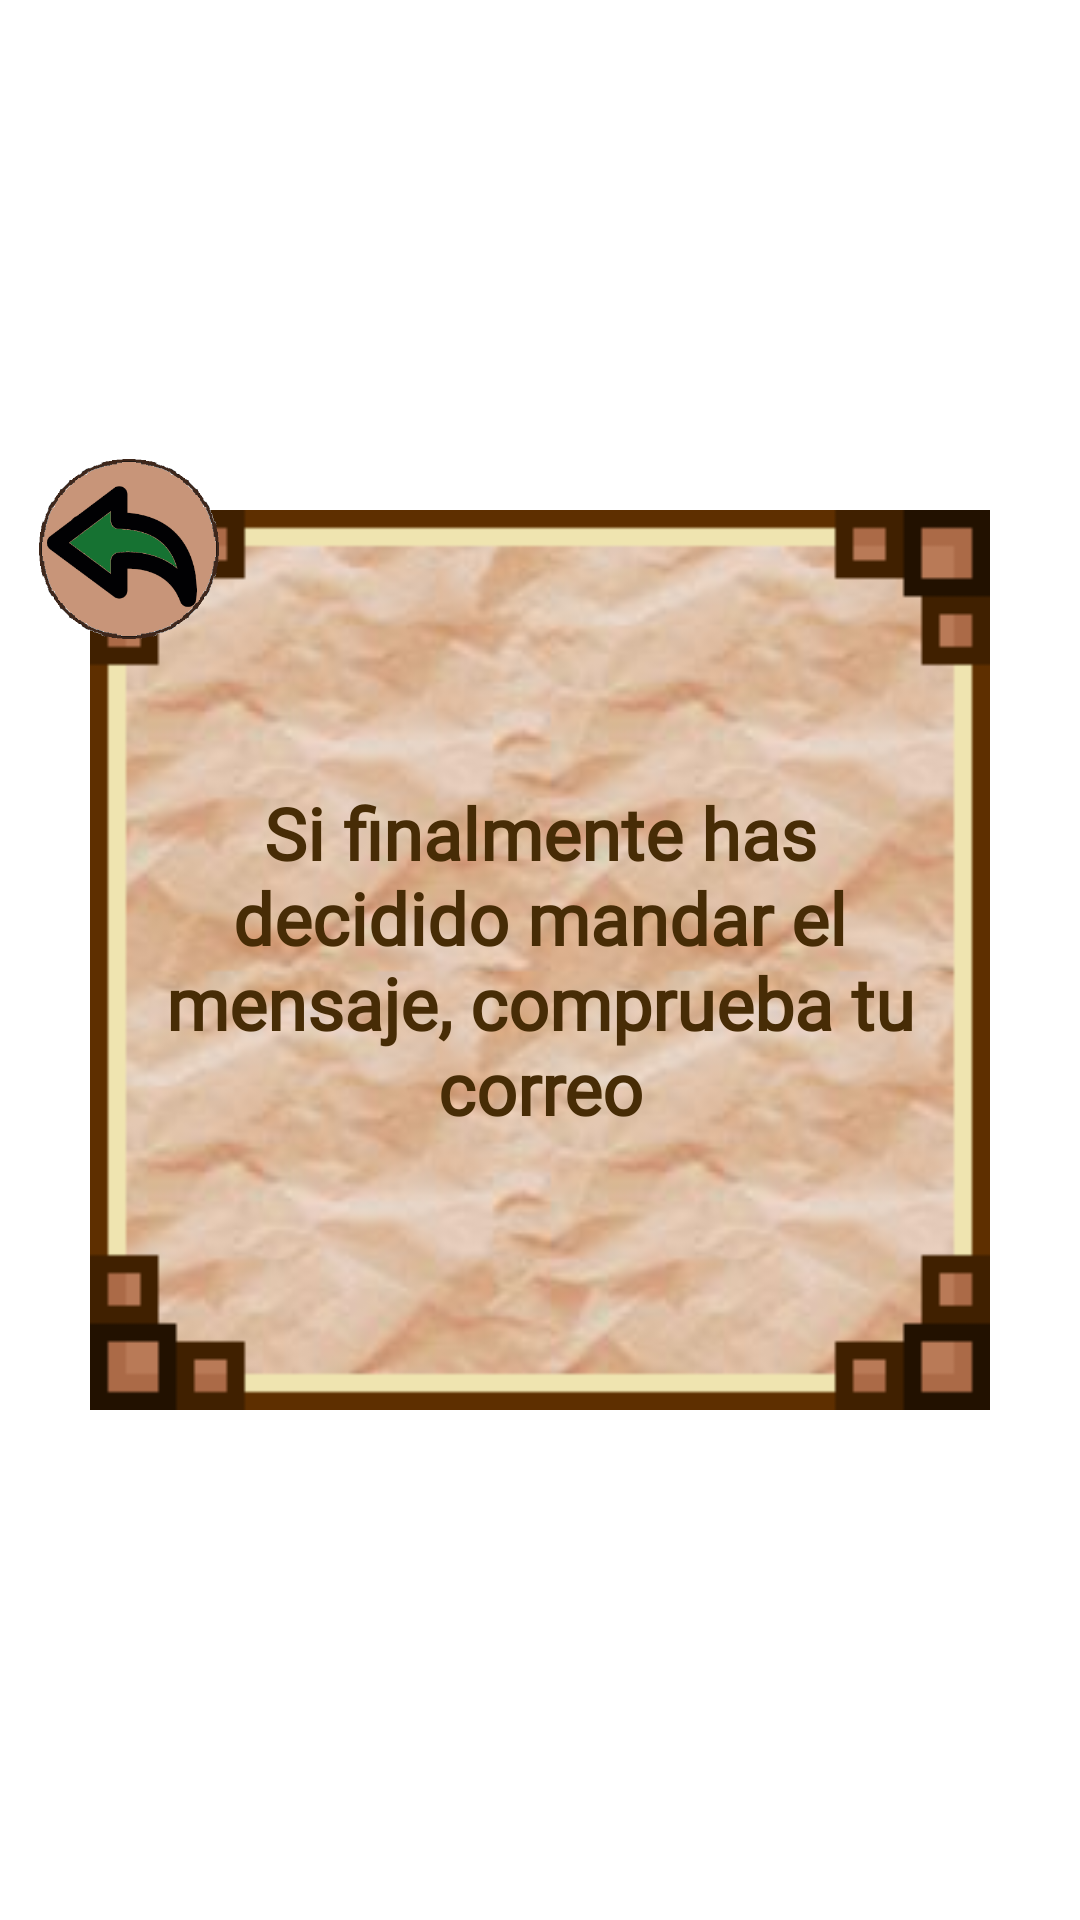

Screen size 1080px×1920px. Icon name, then its center in pixels as point (x, y):
back: point (129, 549)
